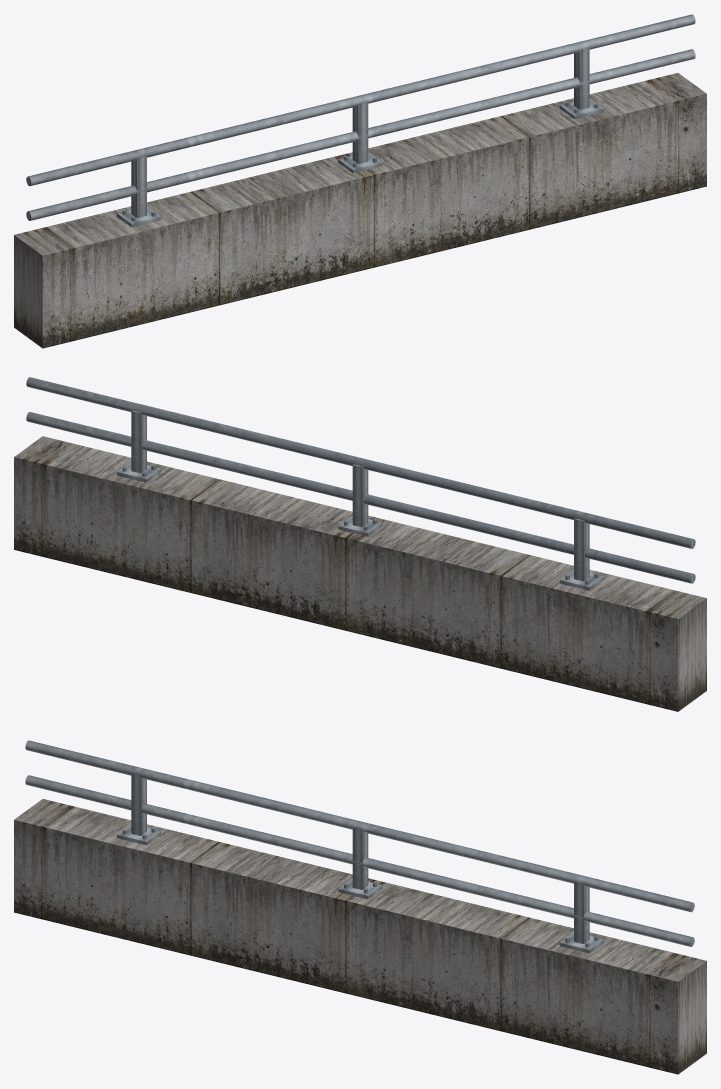
Rendered from bridge_parapet_r3.glb.
3 renders of one model, top to bottom at view 1: azimuth 30°, elevation 25°; view 2: azimuth 150°, elevation 25°; view 3: azimuth 330°, elevation 25°, orthographic.
Parts seen in each view (by area): view 1: bridge_parapet_r3; view 2: bridge_parapet_r3; view 3: bridge_parapet_r3.
Boxes of the visible parts, box(x1,y1,x2,y2) form: bridge_parapet_r3: box(14, 14, 706, 348); bridge_parapet_r3: box(14, 377, 706, 711); bridge_parapet_r3: box(14, 740, 706, 1074).
Bounding box in the file's own units: 6 × 1.39 × 0.4497.
3 materials, 2 textured.
